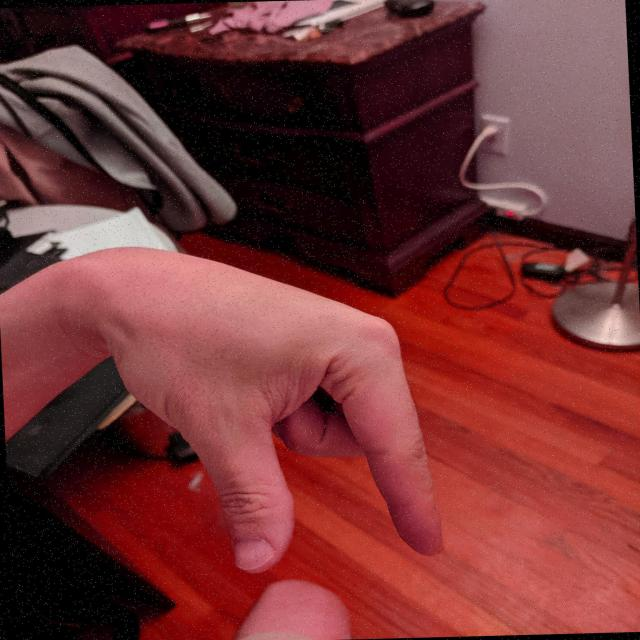Q: (100, 230, 455, 581)
